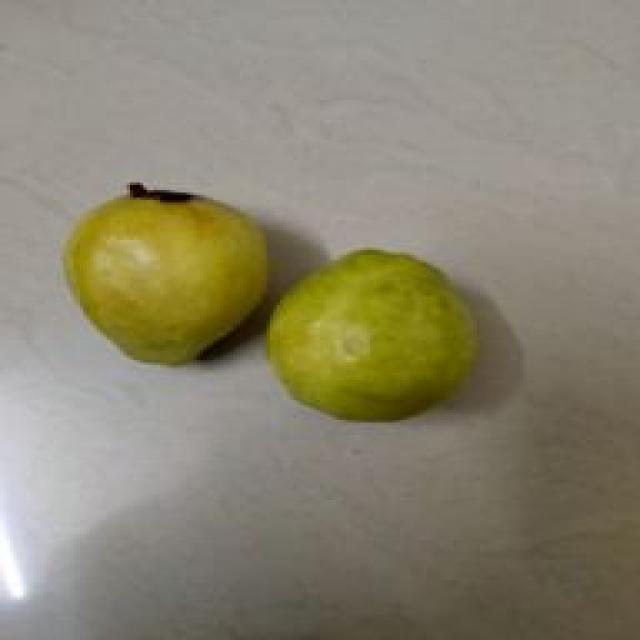Good_Guava: (263, 248, 480, 425), (63, 185, 270, 370)
